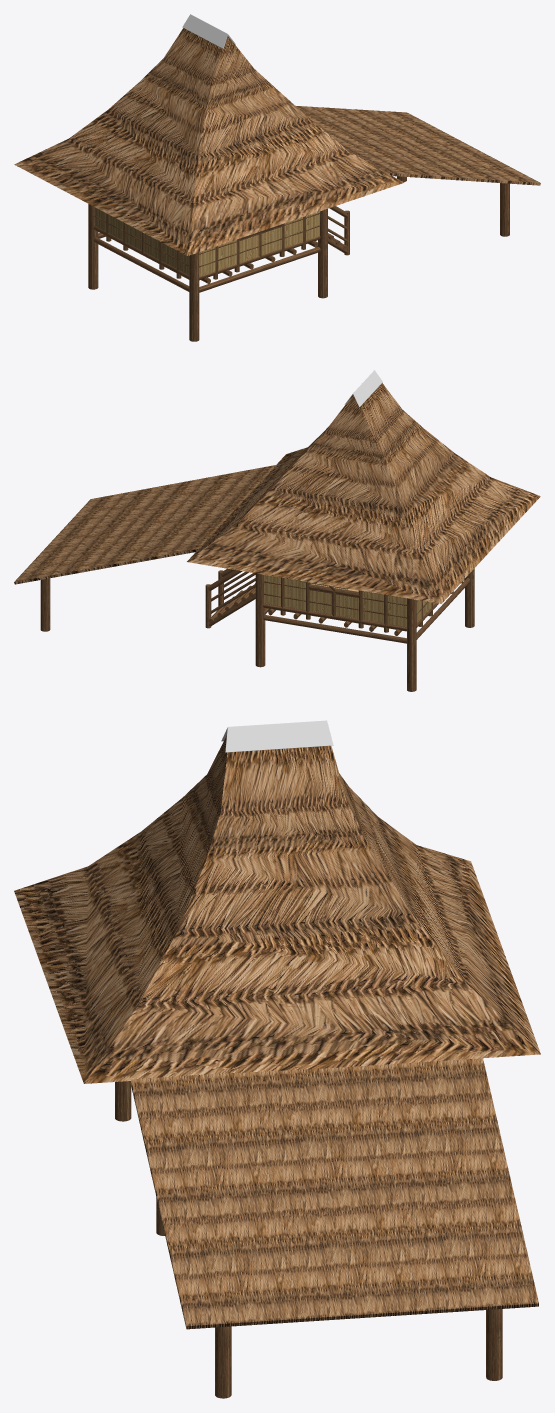
File: sample.fbx
3 renders of one model, top to bottom at view 1: azimuth 30°, elevation 25°; view 2: azimuth 150°, elevation 25°; view 3: azimuth 270°, elevation 25°, orthographic. The views are drawn at different scales.
Visible parts, largest first — view 1: Atop, FrontRoof, WallSIde.001, PillarWindow.001, WallSIde, Cylinder.016, Cylinder.008, Cylinder.015, Atop2, Cylinder.083, Cylinder.006, Cylinder.020; view 2: Atop, FrontRoof, WallSIde.002, PillarWindow, PillarWindow.001, Cylinder.021, Cylinder.084, Atop2, Cylinder.016, Cylinder.069; view 3: Atop, FrontRoof, Atop2, Cylinder.083, Cylinder.084.
Boxes of the visible parts, box(x1,y1,x2,y2) form: Atop: box(14, 28, 403, 255); FrontRoof: box(295, 105, 540, 185); WallSIde.001: box(199, 211, 319, 276); PillarWindow.001: box(88, 204, 189, 291); WallSIde: box(95, 207, 189, 275); Cylinder.016: box(189, 252, 199, 341); Cylinder.008: box(318, 208, 327, 298); Cylinder.015: box(199, 247, 320, 292); Atop2: box(182, 14, 235, 48); Cylinder.083: box(500, 183, 509, 236); Cylinder.006: box(199, 236, 320, 280); Cylinder.020: box(93, 226, 189, 279); Atop: box(187, 383, 540, 603); FrontRoof: box(14, 465, 275, 584); WallSIde.002: box(264, 575, 406, 626); PillarWindow: box(255, 573, 406, 667); PillarWindow.001: box(407, 578, 470, 691); Cylinder.021: box(263, 603, 406, 631); Cylinder.084: box(40, 578, 50, 631); Atop2: box(344, 370, 382, 406); Cylinder.016: box(465, 568, 474, 627); Cylinder.069: box(264, 581, 406, 618); Atop: box(14, 735, 540, 1083); FrontRoof: box(130, 1058, 538, 1329); Atop2: box(221, 720, 333, 752); Cylinder.083: box(215, 1326, 231, 1398); Cylinder.084: box(486, 1309, 502, 1380).
Bounding box in the file's own units: 3715 × 2154 × 2306.
